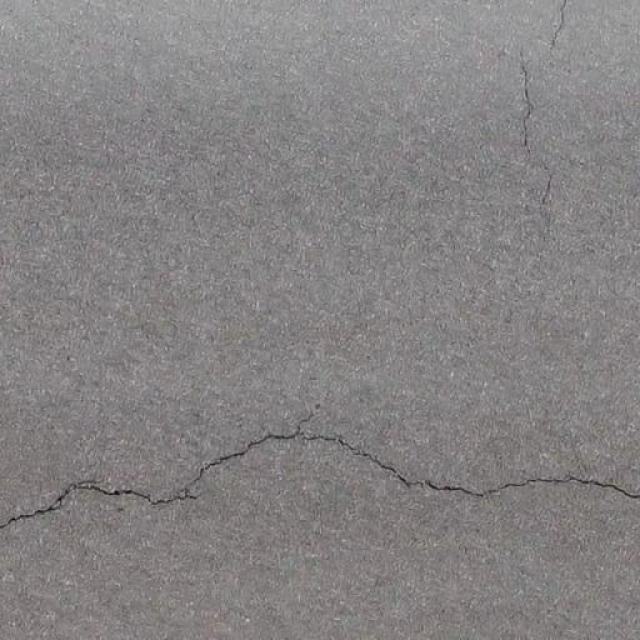Crack: (0, 416, 640, 542)
